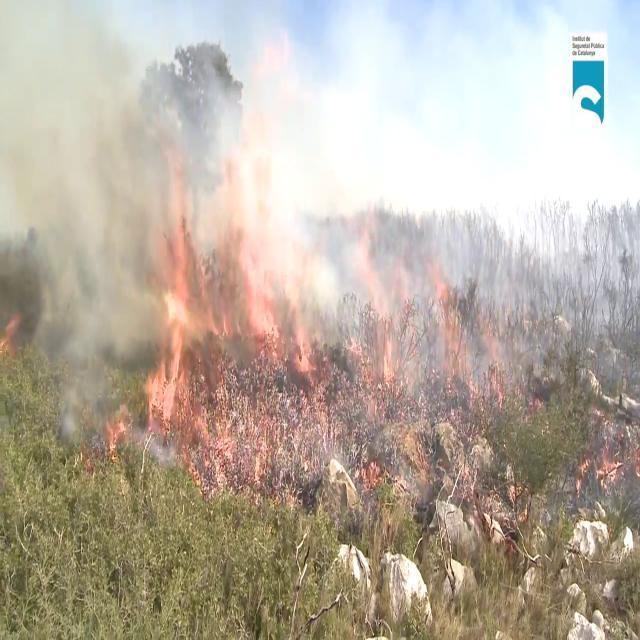Fire: (144, 252, 236, 439)
Smoke: (1, 2, 376, 431)
